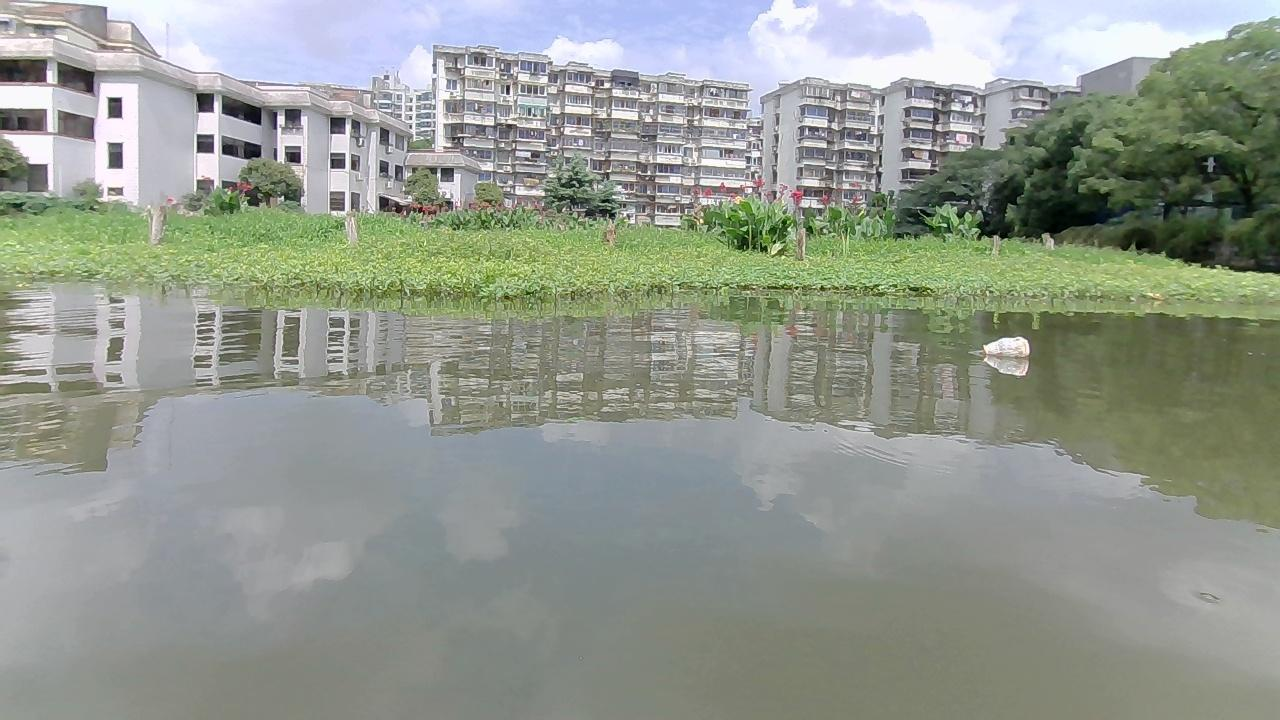bottle: (980, 335, 1030, 356)
